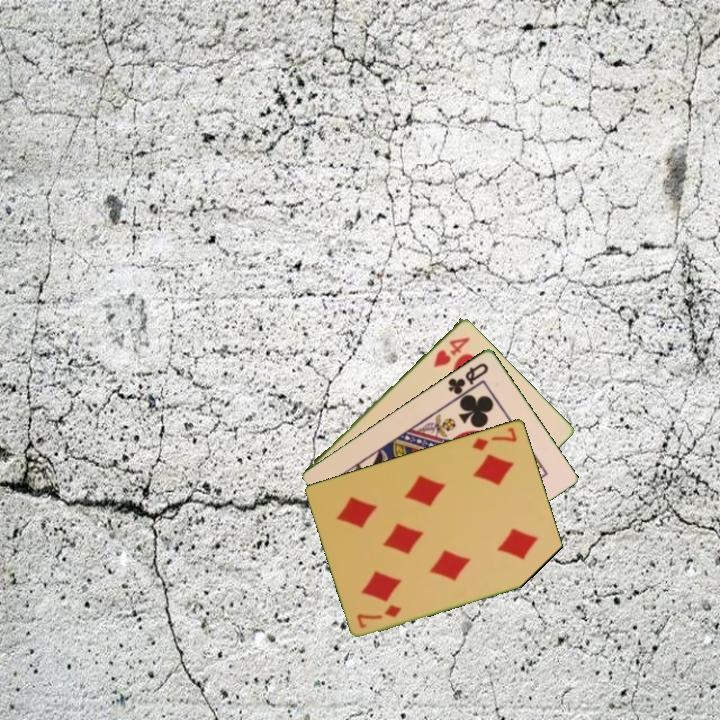4h: (430, 333, 473, 370)
7d: (469, 423, 520, 453), (353, 601, 404, 631)
Qc: (444, 359, 492, 397)
